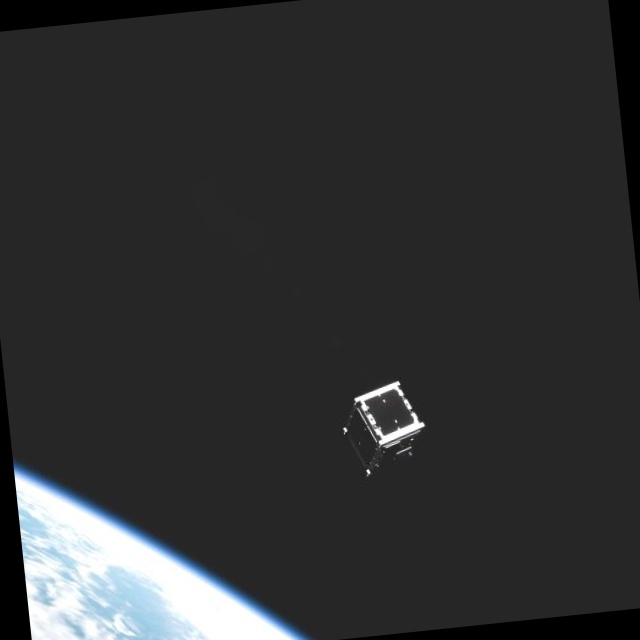satellite: (342, 378, 434, 483)
